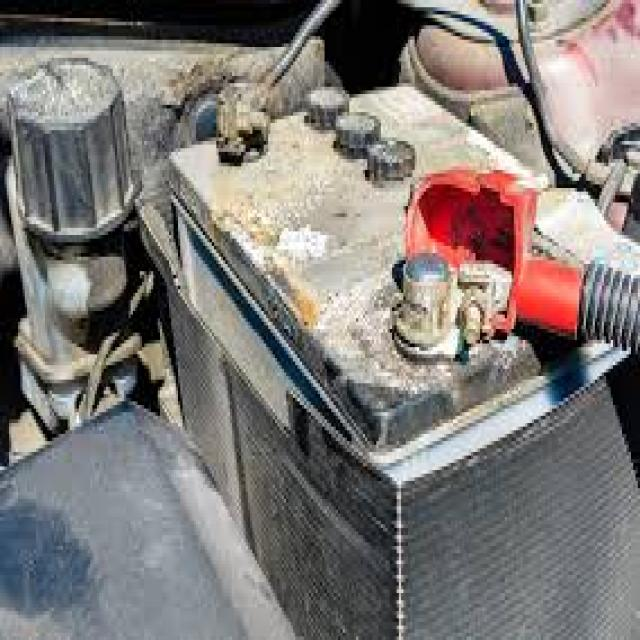hazard: (178, 80, 640, 423)
